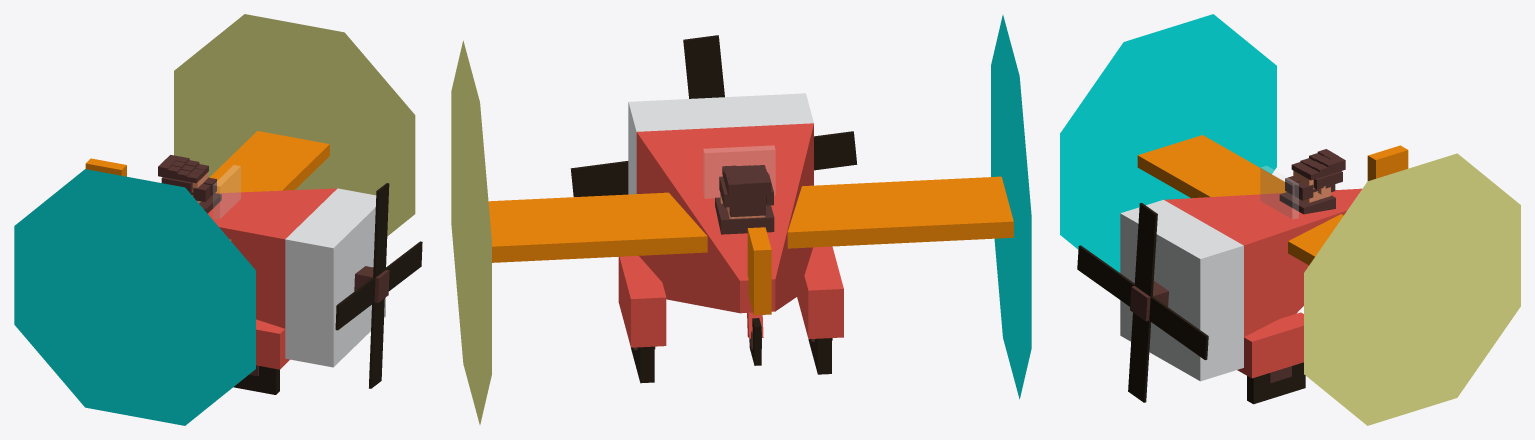
The picture shows the model from 3 angles, left to right: view 1: azimuth 30°, elevation 25°; view 2: azimuth 150°, elevation 25°; view 3: azimuth 270°, elevation 25°; orthographic projection. The views are drawn at different scales.
Parts seen in each view (by area): view 1: octagon-left, octagon-right, airplane, propeller, pilot; view 2: airplane, octagon-right, octagon-left, propeller, pilot; view 3: octagon-right, airplane, octagon-left, propeller, pilot.
Boxes of the visible parts, <box> form: octagon-left: <box>14,169,255,425</box>; octagon-right: <box>174,14,415,236</box>; airplane: <box>85,131,385,394</box>; propeller: <box>335,183,422,388</box>; pilot: <box>161,172,221,213</box>; airplane: <box>488,93,1013,383</box>; octagon-right: <box>451,40,491,424</box>; octagon-left: <box>991,15,1031,399</box>; propeller: <box>570,35,857,196</box>; pilot: <box>715,174,774,234</box>; octagon-right: <box>1304,153,1520,425</box>; airplane: <box>1120,135,1408,404</box>; octagon-left: <box>1060,14,1276,272</box>; propeller: <box>1077,203,1208,402</box>; pilot: <box>1279,170,1342,214</box>.
Size of the model in its own units: 1.82 by 1.05 by 1.71.
